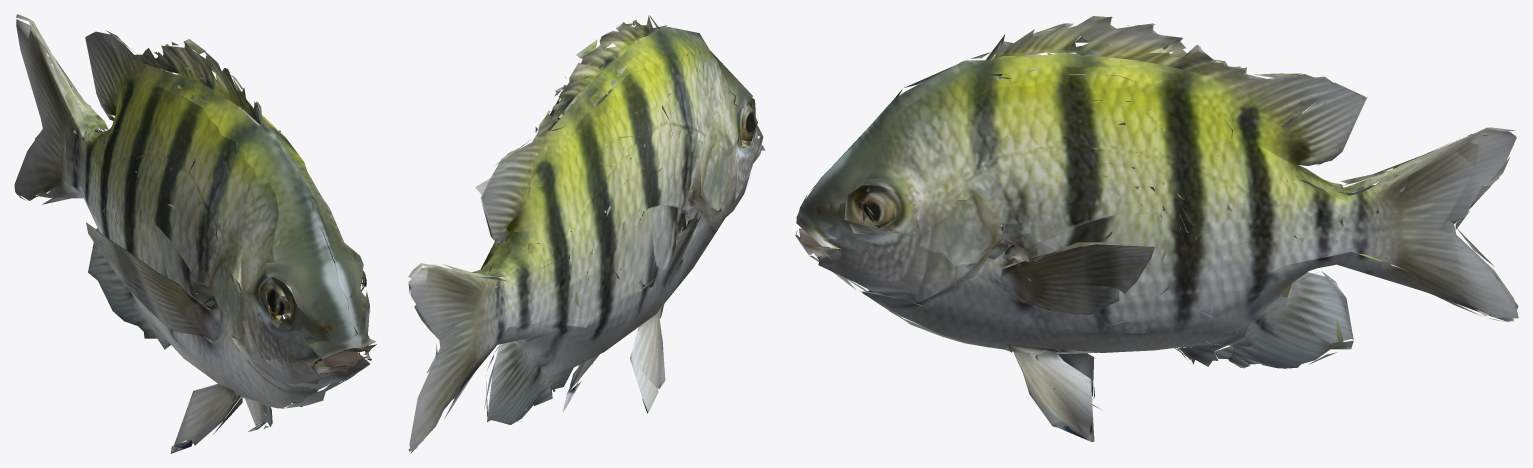
File: sergeant.glb
The picture shows the model from 3 angles, left to right: view 1: azimuth 30°, elevation 25°; view 2: azimuth 150°, elevation 25°; view 3: azimuth 270°, elevation 25°; orthographic projection. The views are drawn at different scales.
Parts seen in each view (by area): view 1: sergeant.001; view 2: sergeant.001; view 3: sergeant.001.
Part boxes in pixels (x1=…): sergeant.001: x1=14, y1=14, x2=376, y2=453; sergeant.001: x1=408, y1=15, x2=765, y2=453; sergeant.001: x1=795, y1=16, x2=1518, y2=441.
Bounding box in the file's own units: 0.3543 × 0.6449 × 1.
Materials: 1 (1 with a texture image).
